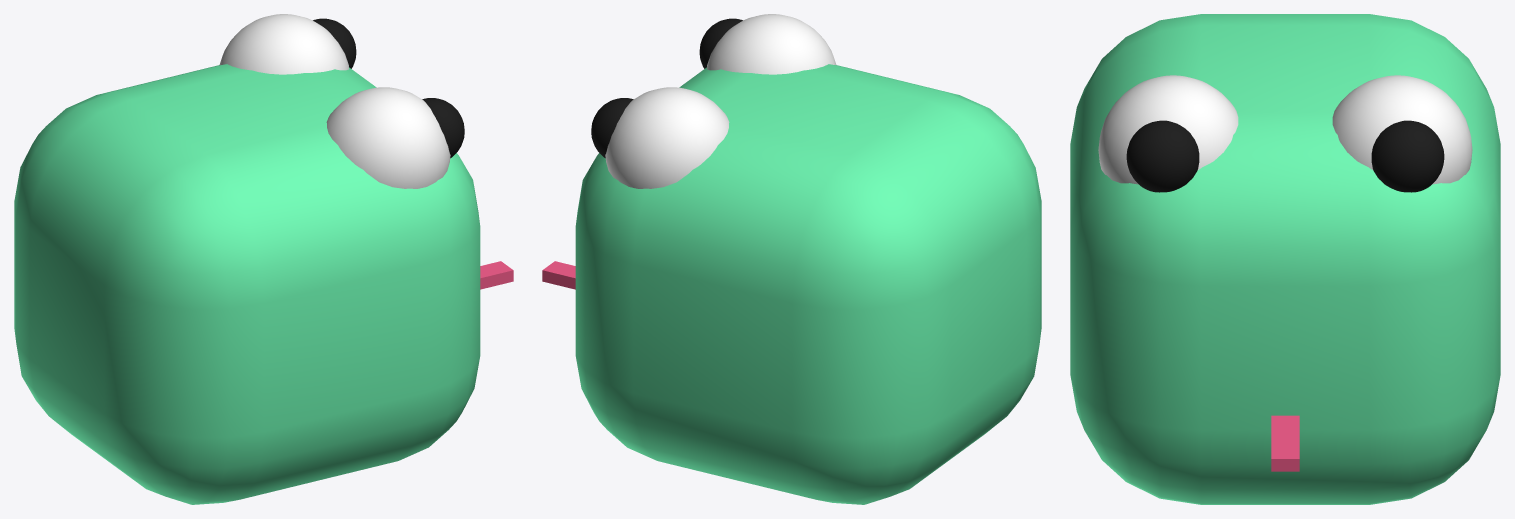
File: head.glb
3 views of the same model, side by side, from view 1: azimuth 30°, elevation 25°; view 2: azimuth 150°, elevation 25°; view 3: azimuth 270°, elevation 25° (orthographic). The views are drawn at different scales.
Parts seen in each view (by area): view 1: Head; view 2: Head; view 3: Head.
Part boxes in pixels (x1,y1,x2,y2): Head: (14, 14, 513, 504); Head: (542, 14, 1041, 504); Head: (1070, 14, 1500, 504).
Bounding box in the file's own units: 1.22 × 0.98 × 0.92.
